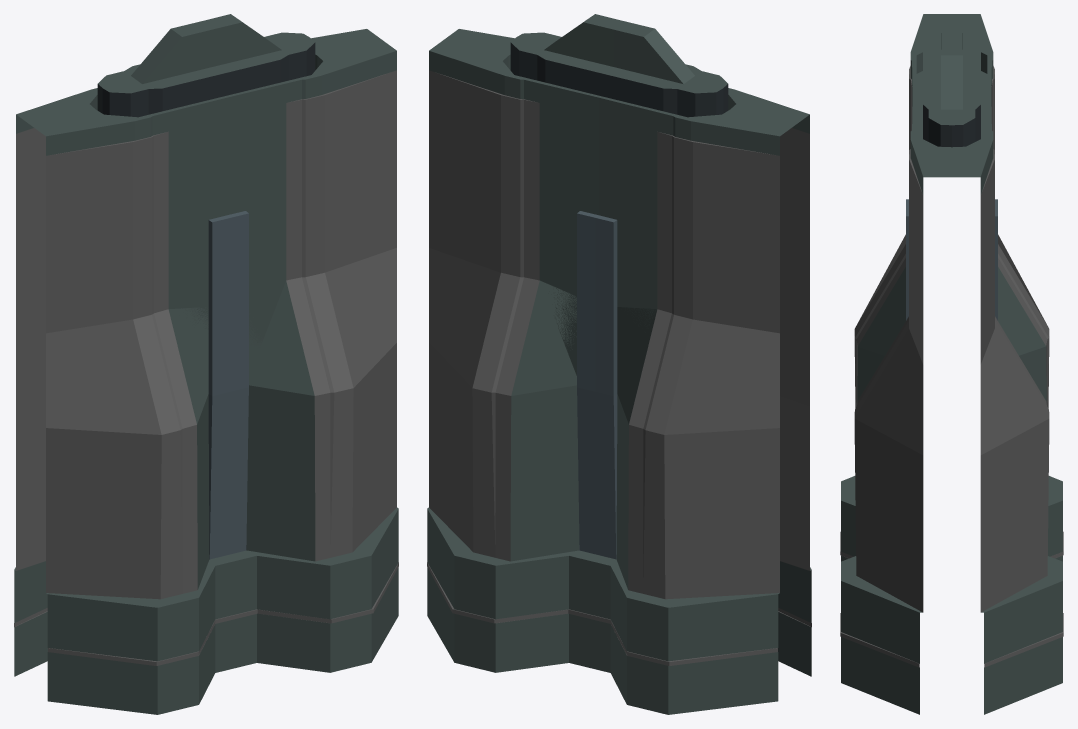
Rendered from Sci_Fi Building 02.fbx.
The picture shows the model from 3 angles, left to right: view 1: azimuth 30°, elevation 25°; view 2: azimuth 150°, elevation 25°; view 3: azimuth 270°, elevation 25°; orthographic projection. The views are drawn at different scales.
Visible parts, largest first — view 1: SciFi_Building_02; view 2: SciFi_Building_02; view 3: SciFi_Building_02.
Part boxes in pixels (box(x1,y1,x2,y2)): SciFi_Building_02: box(14, 14, 398, 714); SciFi_Building_02: box(427, 14, 811, 714); SciFi_Building_02: box(840, 14, 1063, 714).
Bounding box in the file's own units: 38.84 × 65.62 × 22.44.
